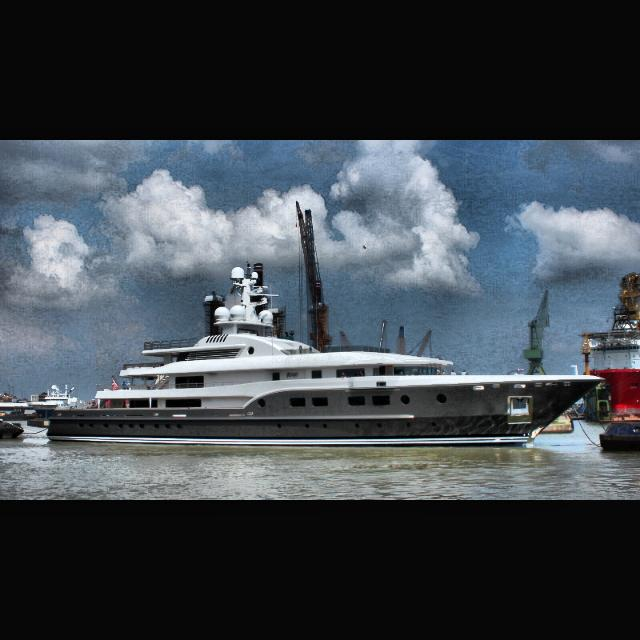yacht: (44, 264, 606, 448)
